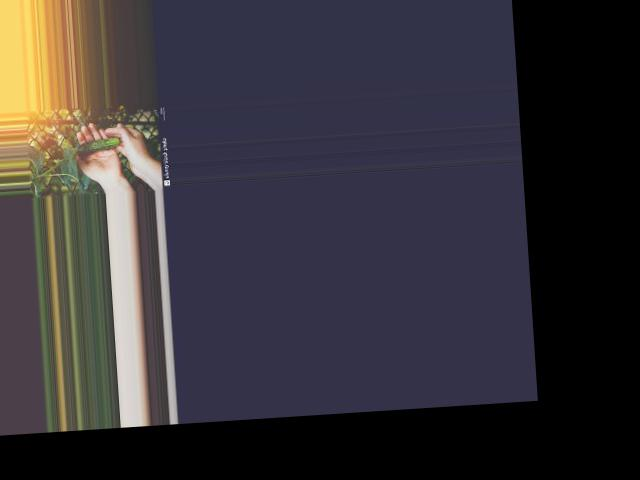cucumber: (76, 136, 121, 155)
